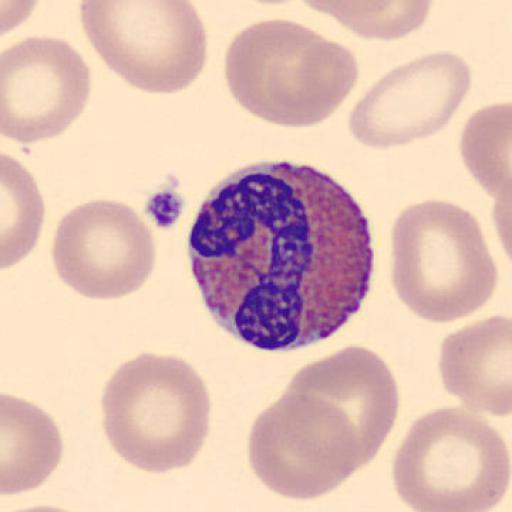RBC: (222, 16, 360, 129), (283, 344, 400, 470), (98, 350, 212, 474), (389, 197, 498, 326), (392, 405, 512, 512), (347, 50, 474, 150), (80, 0, 209, 96), (247, 393, 359, 501), (51, 196, 157, 302), (2, 35, 92, 146), (436, 314, 512, 417), (465, 99, 512, 258), (1, 391, 64, 496), (293, 0, 434, 42), (458, 100, 512, 200), (2, 152, 46, 270), (483, 103, 512, 273), (490, 174, 512, 260), (1, 1, 39, 36), (0, 503, 96, 512)
WBC: (188, 160, 375, 353)
